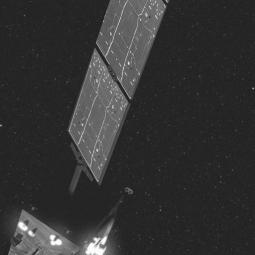smart_1: (4, 6, 164, 255)
